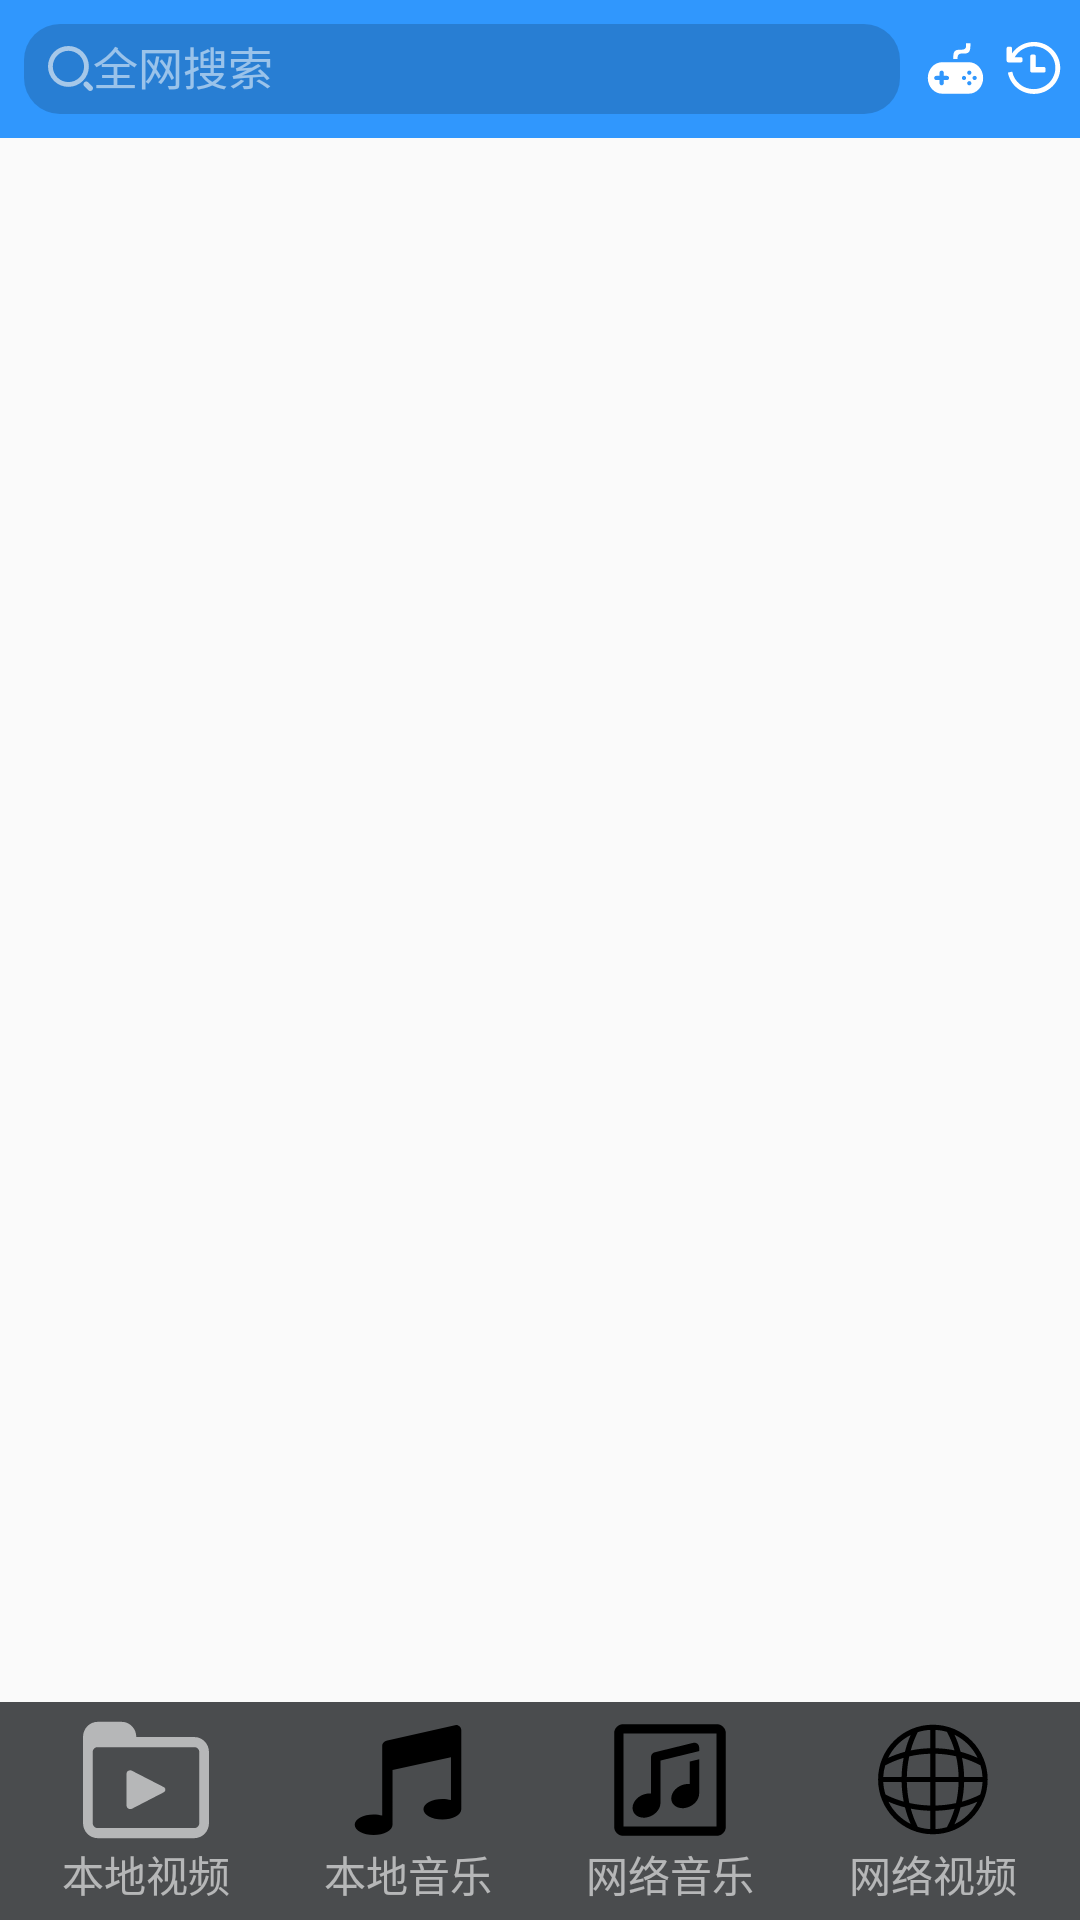

Screen size 1080×1920. Icon name, then its box in pixels as (x1, y1, x2, y2):
game: (927, 43, 983, 94)
history: (1006, 42, 1061, 94)
